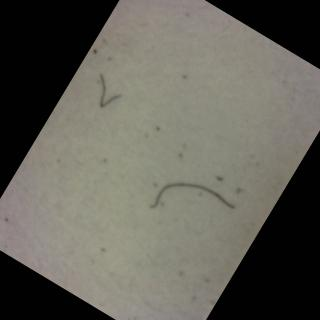Microplastic: (130, 138, 255, 256), (77, 66, 126, 114)
